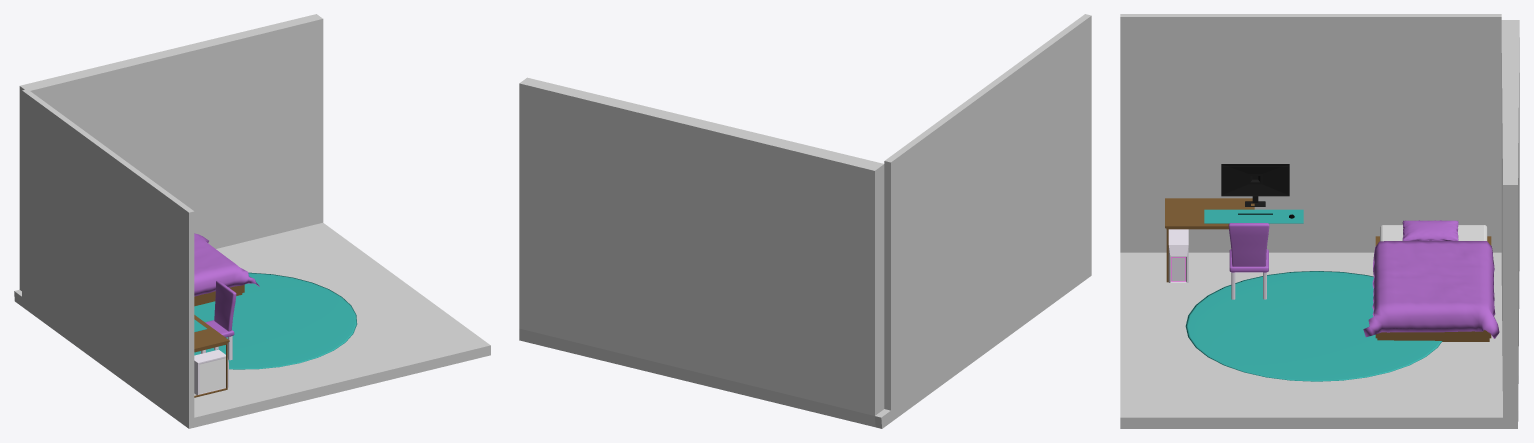
The model's file is Setup Juan Castelán.glb.
3 views of the same model, side by side, from view 1: azimuth 30°, elevation 25°; view 2: azimuth 150°, elevation 25°; view 3: azimuth 270°, elevation 25° (orthographic). The views are drawn at different scales.
Parts seen in each view (by area): view 1: Cube, Esfera.001, Plane.001, Cube.006, Plane, Cube.004; view 2: Cube; view 3: Cube, Esfera.001, Plane.001, Cube.009, Plane, Cube.004, Cube.008, Cube.001, Cube.003, Cube.006, Cube.002.
Part boxes in pixels (x1,y1,x2,y2): Cube: (14, 14, 490, 428); Esfera.001: (194, 272, 357, 369); Plane.001: (194, 233, 259, 296); Cube.006: (194, 349, 228, 394); Plane: (201, 280, 236, 360); Cube.004: (194, 315, 229, 397); Cube: (519, 14, 1091, 428); Cube: (1120, 14, 1519, 428); Esfera.001: (1185, 271, 1442, 381); Plane.001: (1363, 241, 1499, 338); Cube.009: (1221, 164, 1289, 206); Plane: (1228, 223, 1269, 299); Cube.004: (1165, 198, 1254, 282); Cube.008: (1204, 209, 1303, 223); Cube.001: (1375, 236, 1491, 341); Cube.003: (1402, 220, 1458, 240); Cube.006: (1168, 229, 1188, 282); Cube.002: (1380, 225, 1487, 241).
Size of the model in its own units: 9.55 by 6.54 by 9.59.
